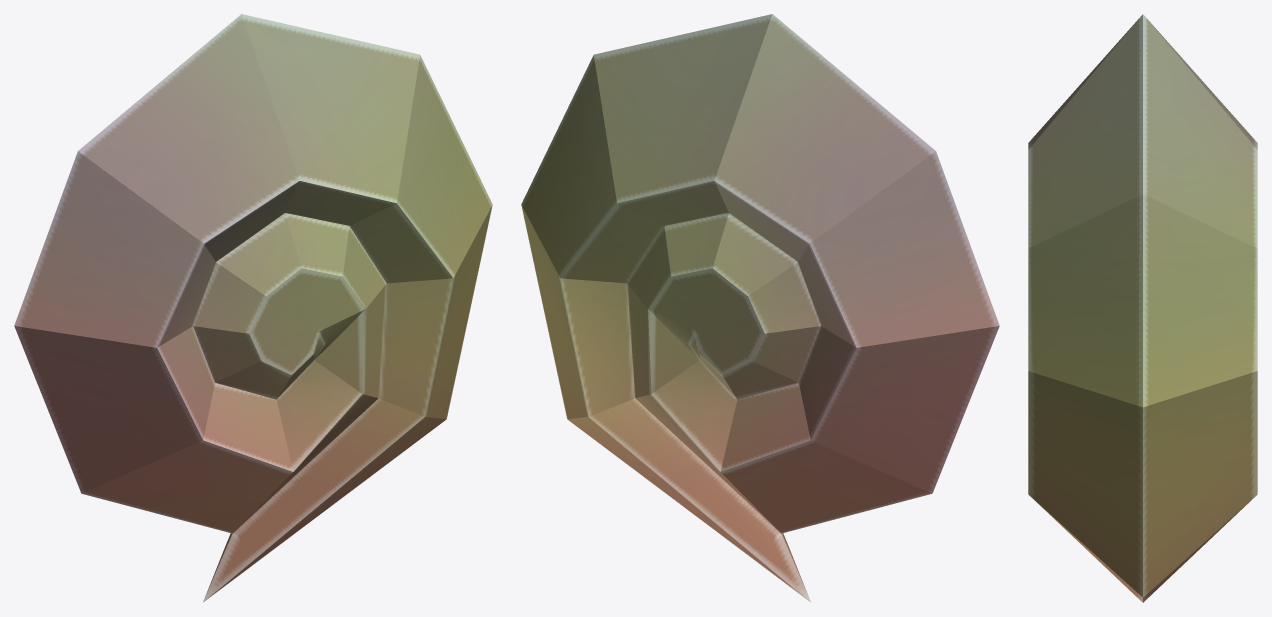
The model's file is Dream Stone Prop.dae.
The picture shows the model from 3 angles, left to right: view 1: azimuth 30°, elevation 25°; view 2: azimuth 150°, elevation 25°; view 3: azimuth 270°, elevation 25°; orthographic projection. The views are drawn at different scales.
Visible parts, largest first — view 1: Dream_Stone; view 2: Dream_Stone; view 3: Dream_Stone.
Boxes of the visible parts, x1,y1,x2,y2 form: Dream_Stone: (14, 14, 492, 602); Dream_Stone: (521, 14, 999, 602); Dream_Stone: (1028, 14, 1257, 602).
Size of the model in its own units: 152 by 176 by 60.
1 material, 1 textured.
